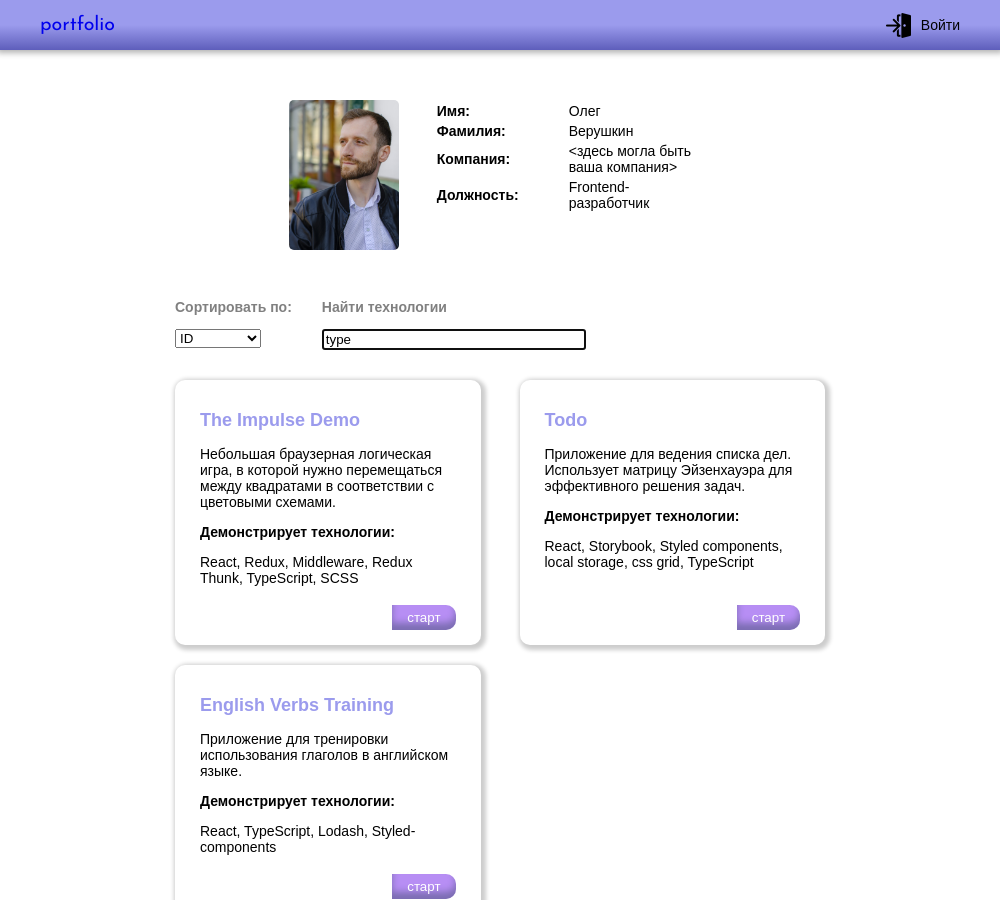
Test case: Тест Портфолио › Проверка приложения Todo › Загрузка Todo и проверка загрузки
Click the button "старт" below "Todo" at coordinates (769, 618), box top-left (737, 605), bottom-right (800, 630)
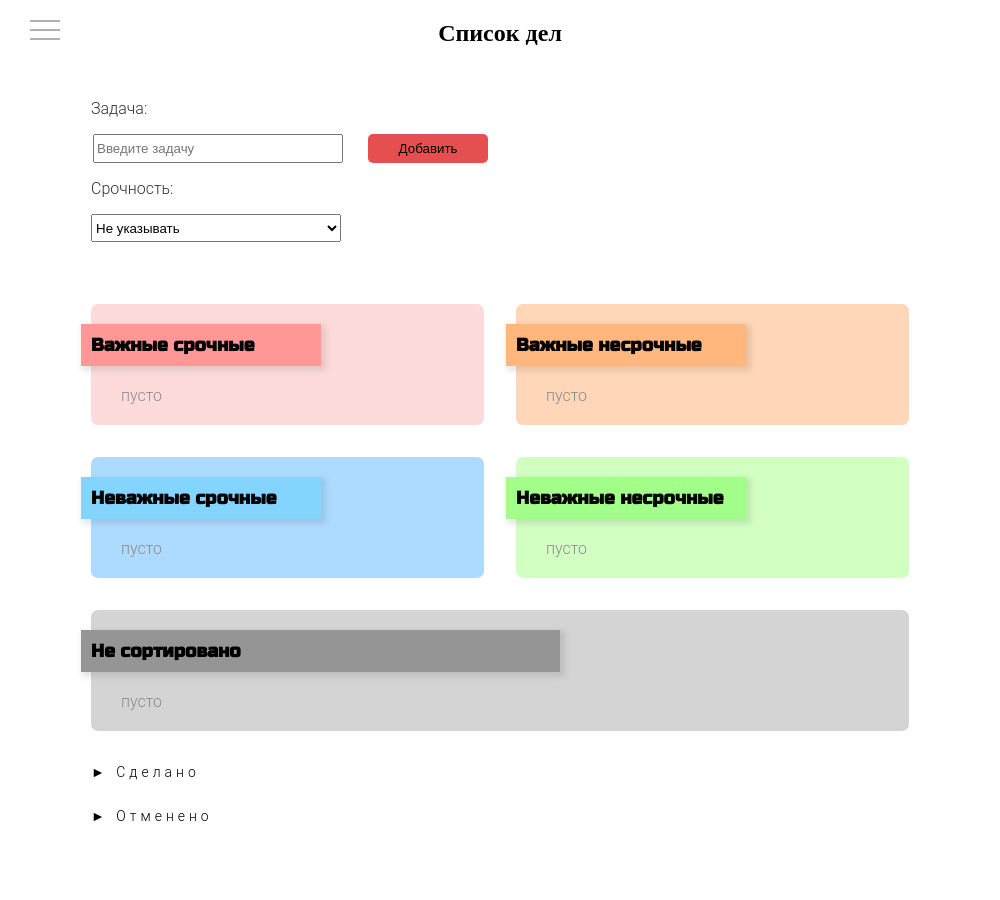
expect the element that starts with "Список дел" is shown: met
expect the field with placeholder "Введите задачу" is empty: met, box top-left (93, 134), bottom-right (343, 163)
expect the dropdown shows "Не указывать": met, box top-left (91, 214), bottom-right (341, 243)
